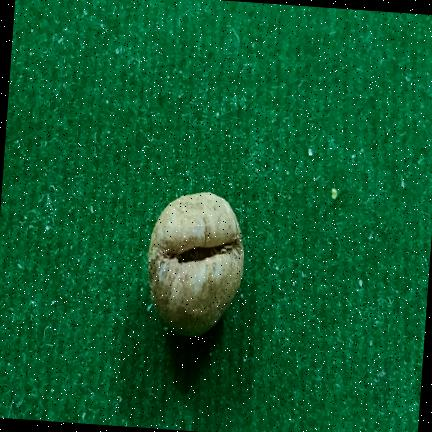good: (147, 192, 243, 336)
